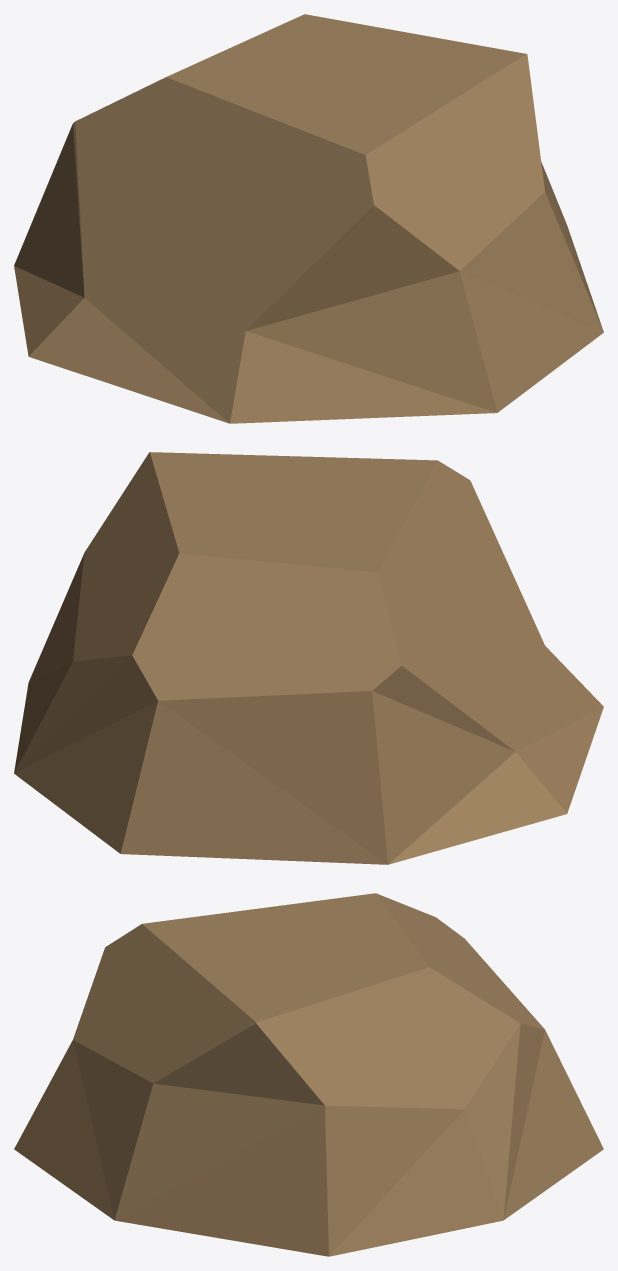
File: SM_Env_Rock_016.gltf
3 views of the same model, one above another, from view 1: azimuth 30°, elevation 25°; view 2: azimuth 150°, elevation 25°; view 3: azimuth 270°, elevation 25° (orthographic). The views are drawn at different scales.
Parts seen in each view (by area): view 1: SM_Env_Rock_016; view 2: SM_Env_Rock_016; view 3: SM_Env_Rock_016.
Part boxes in pixels (x1,y1,x2,y2): SM_Env_Rock_016: [14, 14, 603, 423]; SM_Env_Rock_016: [14, 452, 603, 864]; SM_Env_Rock_016: [14, 893, 603, 1256].
Size of the model in its own units: 0.573 by 0.2243 by 0.6036.
Materials: 1 (1 with a texture image).
